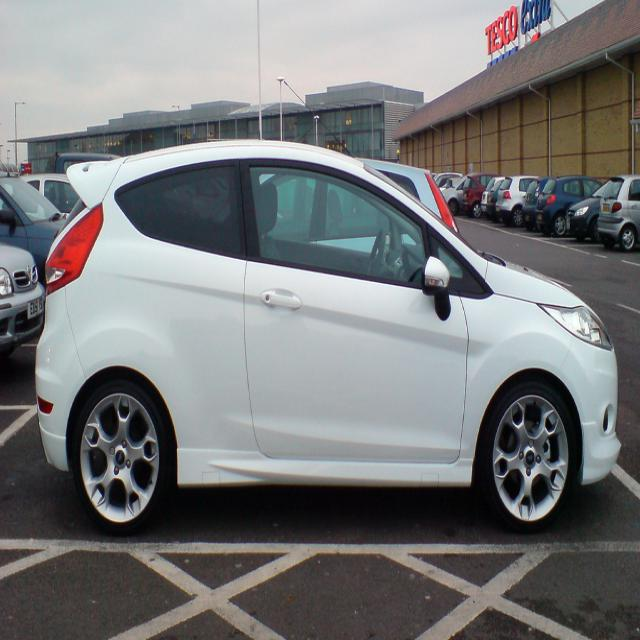car: (26, 148, 598, 536), (0, 172, 70, 279), (0, 235, 46, 345), (496, 173, 559, 230), (595, 173, 639, 251), (534, 177, 595, 230), (567, 179, 611, 241), (458, 177, 518, 220)
